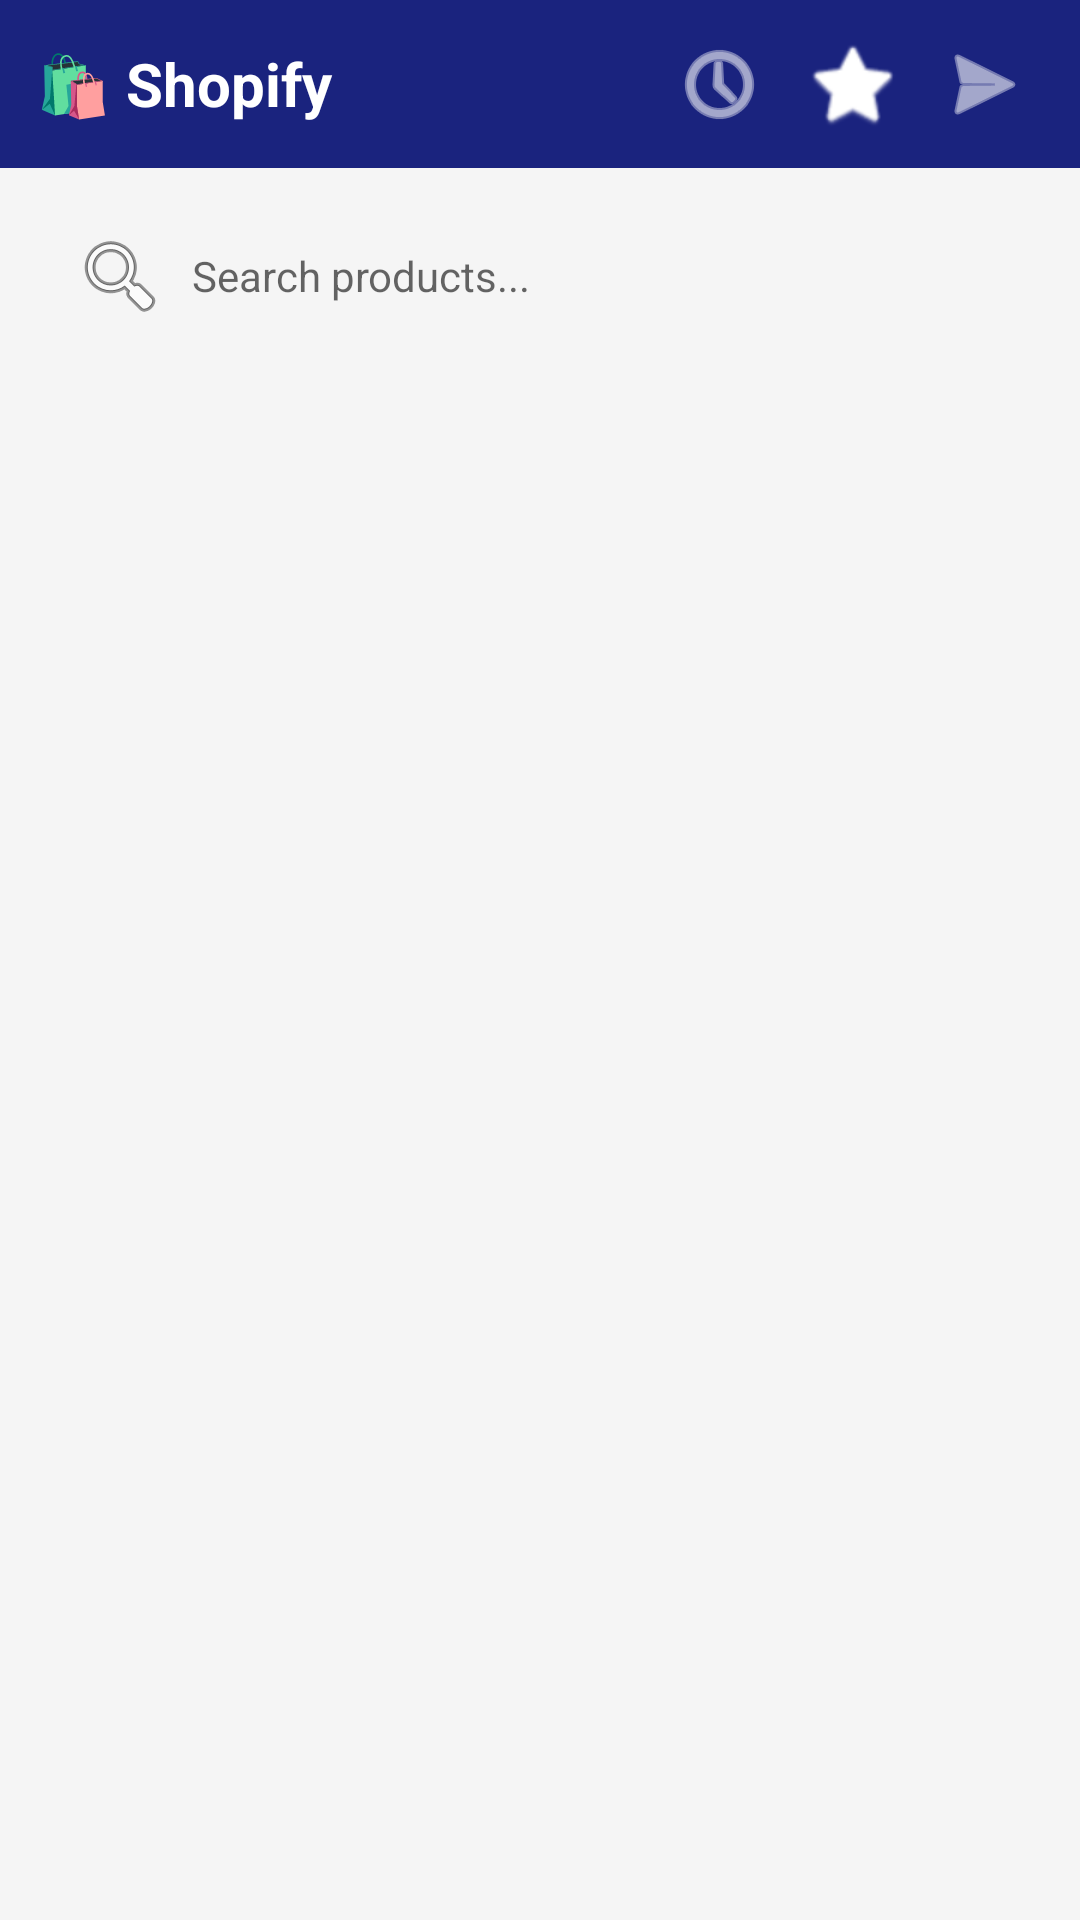

Named icons in this screenshot (1080 x 1920) and their centers, point (x, y):
Wishlist: point (853, 85)
